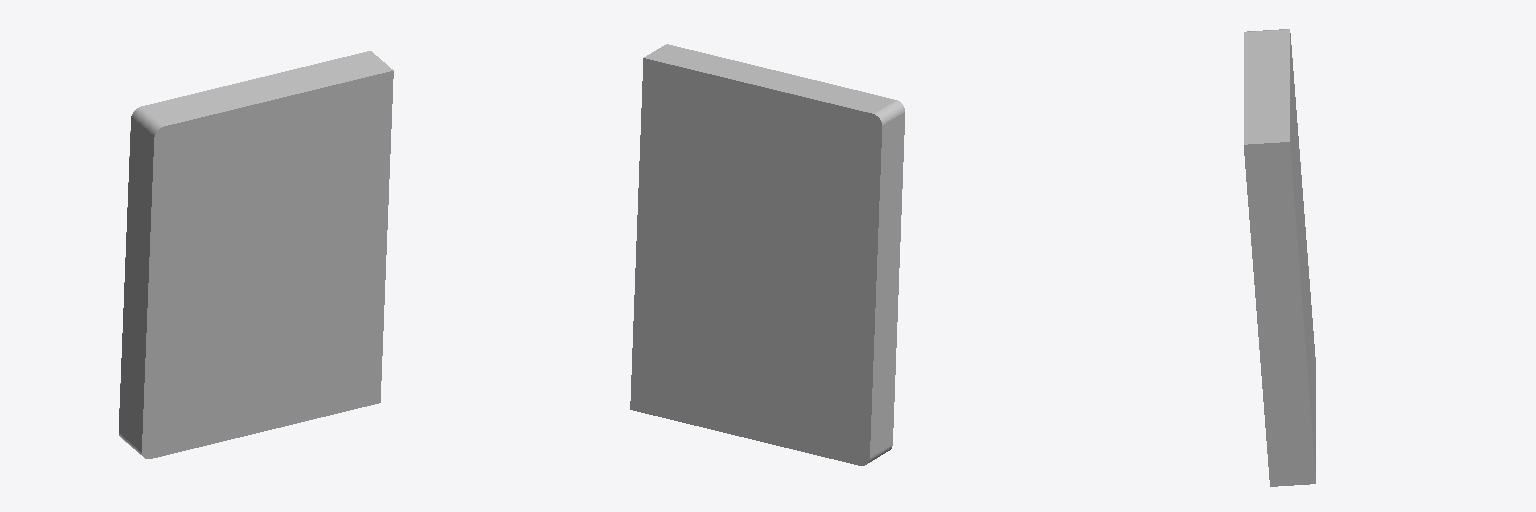
The model's file is original-21.obj.
The picture shows the model from 3 angles: view 1: azimuth 30°, elevation 25°; view 2: azimuth 150°, elevation 25°; view 3: azimuth 270°, elevation 25°; orthographic projection.
Parts seen in each view (by area): view 1: #ID129; view 2: #ID129; view 3: #ID129.
Part boxes in pixels (x1,y1,x2,y2): #ID129: (119, 51, 393, 458); #ID129: (630, 44, 904, 465); #ID129: (1244, 29, 1315, 486).
Bounding box in the file's own units: 0.6053 × 0.8345 × 0.1592.